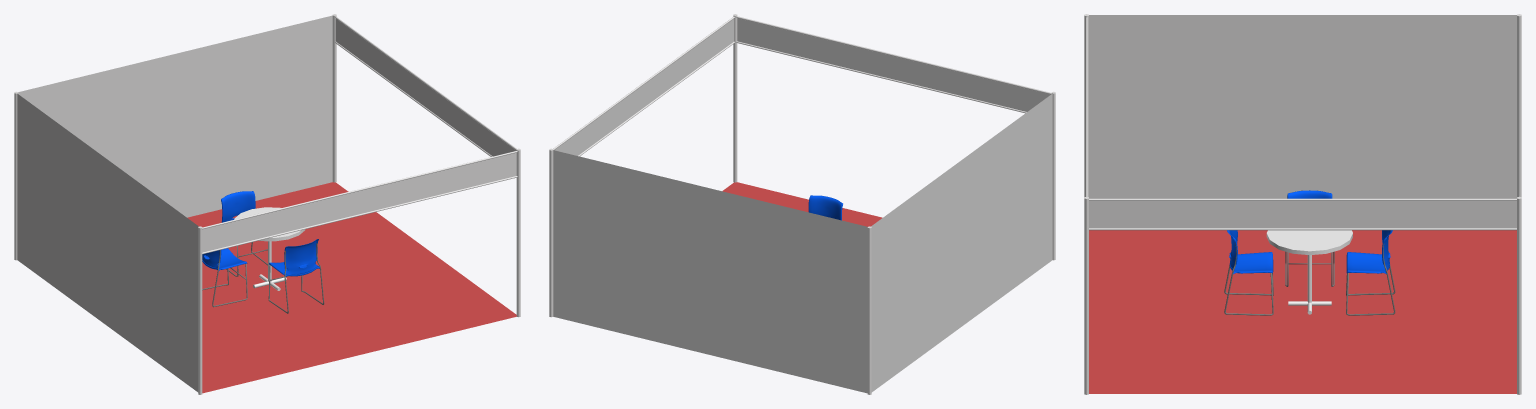
Rendered from stand.fbx.
3 renders of one model, left to right at view 1: azimuth 30°, elevation 25°; view 2: azimuth 150°, elevation 25°; view 3: azimuth 270°, elevation 25°, orthographic. The views are drawn at different scales.
Visible parts, largest first — view 1: Object_15, Object_21, Object_16, Object_10, Object_9, Object_2, Object_20, Object_17, Object_7, Object_18, Object_14, Object_4 (+4 smaller); view 2: Object_15, Object_16, Object_10, Object_9, Object_21, Object_19, Object_18, Object_17, Object_14, Object_13, Object_20, Object_2 (+1 smaller); view 3: Object_16, Object_21, Object_9, Object_7, Object_12, Object_11, Object_2, Object_4, Object_18, Object_17, Object_19, Object_20 (+3 smaller).
Boxes of the visible parts, x1,y1,x2,y2 form: Object_15: [18, 15, 332, 217]; Object_21: [187, 182, 516, 393]; Object_16: [17, 94, 198, 392]; Object_10: [202, 153, 516, 252]; Object_9: [335, 19, 516, 156]; Object_2: [269, 239, 319, 276]; Object_20: [198, 226, 202, 394]; Object_17: [516, 148, 520, 317]; Object_7: [234, 207, 305, 290]; Object_18: [332, 14, 336, 182]; Object_14: [202, 151, 517, 229]; Object_4: [221, 191, 255, 222]; Object_15: [553, 150, 867, 393]; Object_16: [871, 94, 1052, 392]; Object_10: [737, 18, 1050, 111]; Object_9: [554, 19, 734, 155]; Object_21: [722, 182, 882, 226]; Object_19: [867, 226, 871, 394]; Object_18: [549, 148, 553, 317]; Object_17: [733, 14, 737, 182]; Object_14: [736, 16, 1051, 94]; Object_13: [736, 41, 1026, 113]; Object_20: [1051, 91, 1055, 260]; Object_2: [808, 195, 842, 220]; Object_16: [1089, 15, 1516, 198]; Object_21: [1089, 230, 1516, 393]; Object_9: [1089, 201, 1516, 228]; Object_7: [1266, 230, 1352, 314]; Object_12: [1089, 228, 1516, 230]; Object_11: [1089, 198, 1516, 200]; Object_2: [1227, 230, 1273, 274]; Object_4: [1346, 230, 1392, 273]; Object_18: [1517, 196, 1521, 394]; Object_17: [1084, 196, 1088, 394]; Object_19: [1517, 14, 1521, 197]; Object_20: [1084, 14, 1088, 197].
Size of the model in its own units: 4.05 by 2 by 4.04.
